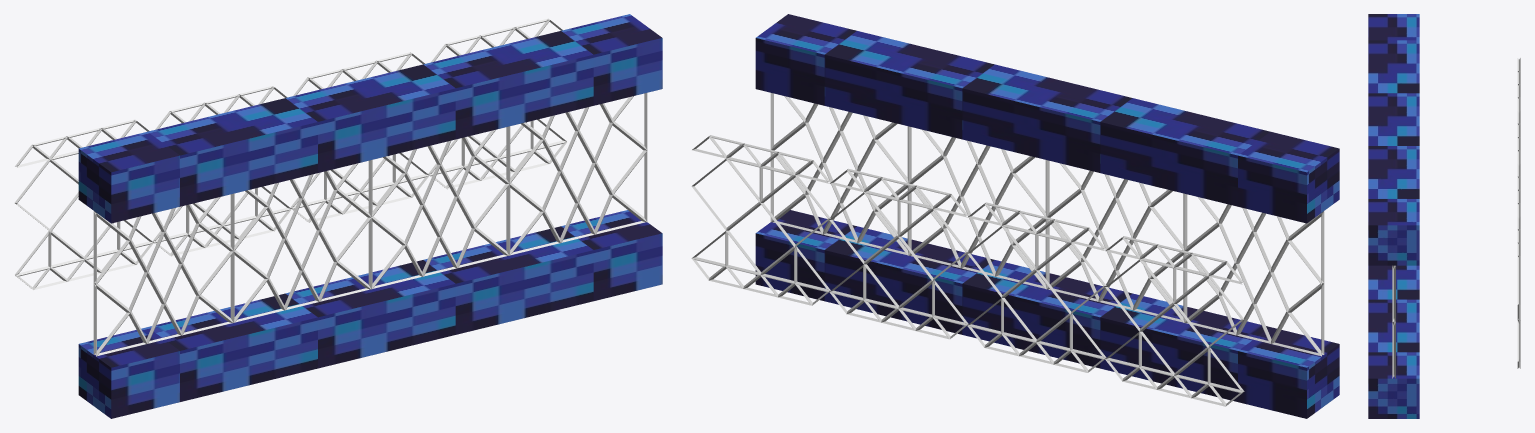
The model's file is fence_wonjun (3).fbx.
3 renders of one model, left to right at view 1: azimuth 30°, elevation 25°; view 2: azimuth 150°, elevation 25°; view 3: azimuth 270°, elevation 25°, orthographic. The views are drawn at different scales.
Visible parts, largest first — view 1: Cube.011, Cube.010, Cube.009, Cube.006, Cube, Cube.005, Cube.013, Cube.007, Cube.008, Cube.012, Cube.016, Cube.015 (+6 smaller); view 2: Cube.009, Cube.011, Cube.010, Cube.005, Cube, Cube.006, Cube.013, Cube.007, Cube.008, Cube.016, Cube.002, Cube.003 (+6 smaller); view 3: Cube.008, Cube.012, Cube.010, Cube.009, Cube.011, Cube.006, Cube, Cube.013, Cube.003, Cube.015, Cube.004, Cube.001 (+1 smaller).
Boxes of the visible parts, bbox=[...] form: Cube.011: bbox=[423, 31, 593, 139]; Cube.010: bbox=[148, 98, 317, 206]; Cube.009: bbox=[285, 64, 455, 172]; Cube.006: bbox=[423, 226, 593, 334]; Cube: bbox=[285, 260, 455, 368]; Cube.005: bbox=[148, 293, 317, 401]; Cube.013: bbox=[78, 131, 179, 223]; Cube.007: bbox=[78, 327, 179, 418]; Cube.008: bbox=[561, 14, 662, 105]; Cube.012: bbox=[561, 210, 662, 300]; Cube.016: bbox=[93, 193, 233, 356]; Cube.015: bbox=[509, 93, 647, 255]; Cube.009: bbox=[962, 64, 1132, 172]; Cube.011: bbox=[824, 31, 994, 139]; Cube.010: bbox=[1100, 98, 1269, 206]; Cube.005: bbox=[1100, 293, 1270, 401]; Cube: bbox=[962, 260, 1132, 368]; Cube.006: bbox=[824, 226, 994, 334]; Cube.013: bbox=[1238, 131, 1339, 223]; Cube.007: bbox=[1238, 327, 1339, 418]; Cube.008: bbox=[755, 14, 856, 105]; Cube.016: bbox=[1184, 193, 1324, 356]; Cube.002: bbox=[1105, 236, 1244, 406]; Cube.003: bbox=[691, 135, 830, 305]; Cube.008: bbox=[1368, 199, 1419, 265]; Cube.012: bbox=[1368, 352, 1419, 418]; Cube.010: bbox=[1368, 40, 1419, 93]; Cube.009: bbox=[1368, 93, 1419, 145]; Cube.011: bbox=[1368, 146, 1419, 198]; Cube.006: bbox=[1368, 299, 1419, 352]; Cube: bbox=[1368, 265, 1419, 299]; Cube.013: bbox=[1368, 14, 1419, 40]; Cube.003: bbox=[1517, 216, 1520, 368]; Cube.015: bbox=[1392, 265, 1395, 378]; Cube.004: bbox=[1517, 163, 1520, 217]; Cube.001: bbox=[1517, 111, 1520, 164].
Size of the model in its own units: 800 by 342 by 243.
2 materials, 1 textured.
